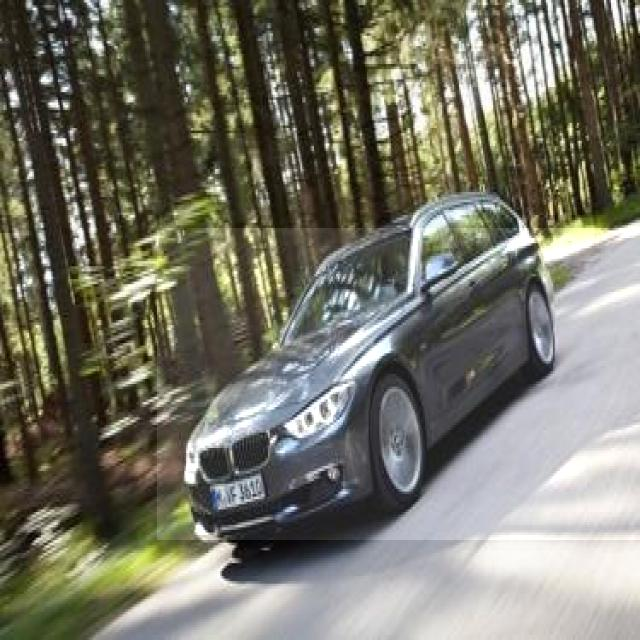Car: (157, 228, 640, 540)
